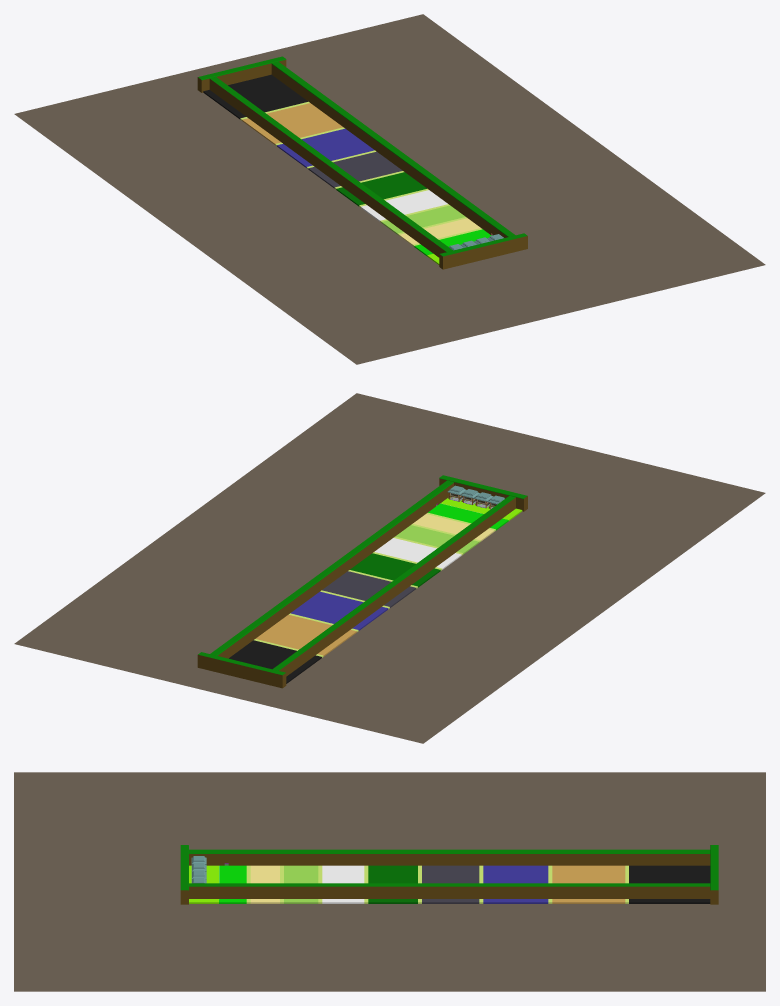
Rendered from Map RC 69 ver 2.fbx.
3 renders of one model, top to bottom at view 1: azimuth 30°, elevation 25°; view 2: azimuth 150°, elevation 25°; view 3: azimuth 270°, elevation 25°, orthographic. The views are drawn at different scales.
Visible parts, largest first — view 1: Base_San, pasted__pCube8, Base_Tuong; view 2: Base_San, pasted__pCube8, Base_Tuong; view 3: Base_San, Base_Tuong, pasted__pCube8.
Part boxes in pixels (box(x1,y1,x2,y2)): Base_San: box(14, 14, 765, 364); pasted__pCube8: box(203, 74, 492, 264); Base_Tuong: box(197, 56, 527, 269); Base_San: box(14, 393, 765, 743); pasted__pCube8: box(229, 498, 522, 683); Base_Tuong: box(197, 475, 527, 688); Base_San: box(14, 772, 765, 991); Base_Tuong: box(180, 845, 718, 904); pasted__pCube8: box(189, 864, 710, 903).
Bounding box in the file's own units: 5561 × 190 × 8065.
